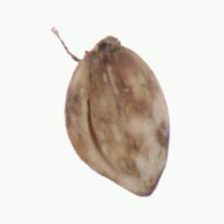L1: (71, 34, 125, 66), (130, 179, 157, 196)
L2: (64, 36, 170, 197)
